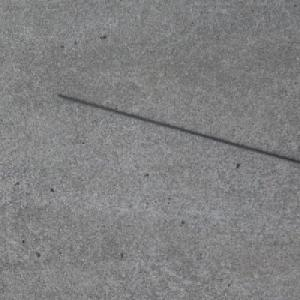LuggagePart: (56, 94, 300, 165)
